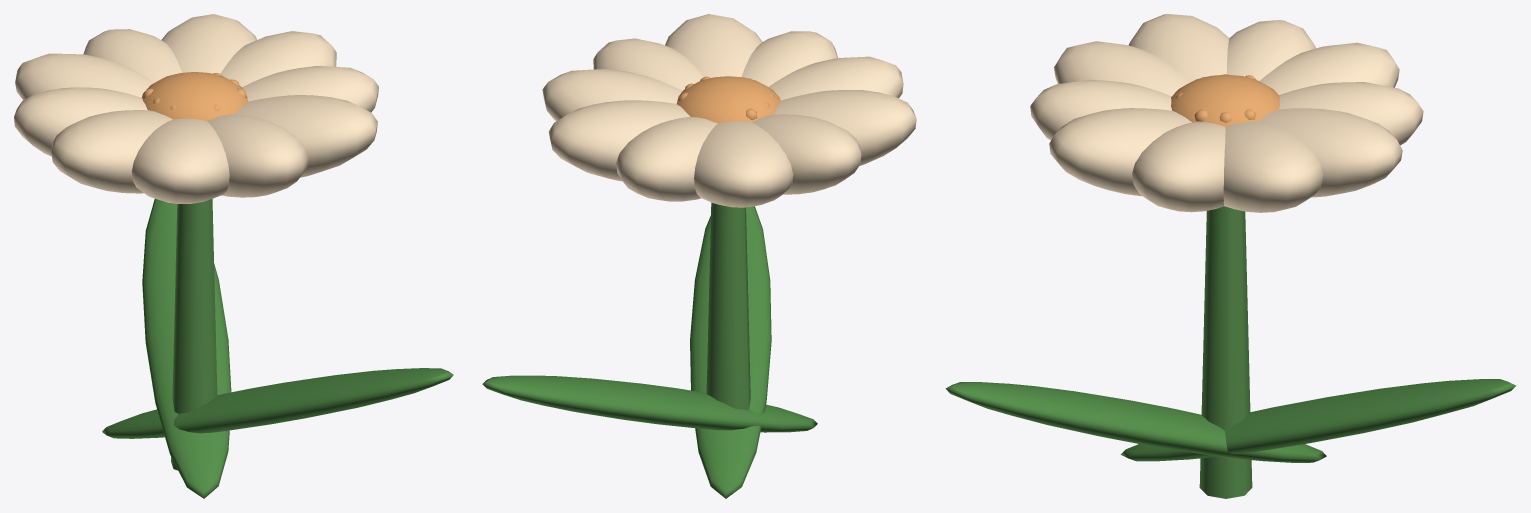
The model's file is daisy-flower.glb.
3 renders of one model, left to right at view 1: azimuth 30°, elevation 25°; view 2: azimuth 150°, elevation 25°; view 3: azimuth 270°, elevation 25°, orthographic. The views are drawn at different scales.
Visible parts, largest first — view 1: leaf1, leaf0, stem, petal9, petal8, petal1, petal0, petal7, petal6, petal3, center, petal2 (+2 smaller); view 2: leaf0, leaf1, stem, petal6, petal4, petal5, petal8, petal7, petal3, petal1, petal9, center (+2 smaller); view 3: stem, leaf1, leaf0, petal3, petal1, petal4, petal2, petal6, petal5, petal9, petal8, petal0 (+2 smaller).
Part boxes in pixels (x1,y1,x2,y2): leaf1: (142,198,231,498); leaf0: (102,368,453,438); stem: (171,199,217,470); petal9: (131,118,229,203); petal8: (51,110,172,193); petal1: (235,95,377,177); petal0: (207,114,308,197); petal7: (14,87,147,156); petal6: (15,53,154,99); petal3: (220,31,336,86); center: (142,72,247,120); petal2: (242,66,378,112); leaf0: (690,206,771,498); leaf1: (482,375,817,432); stem: (706,202,750,410); petal6: (694,121,793,207); petal4: (548,100,689,181); petal5: (616,116,717,201); petal8: (774,90,916,165); petal7: (752,114,861,194); petal3: (542,69,682,121); petal1: (665,14,762,77); petal9: (768,56,903,100); center: (676,76,780,123); stem: (1199,206,1252,498); leaf1: (1120,379,1515,461); leaf0: (945,382,1326,462); petal3: (1223,122,1323,212); petal1: (1049,108,1191,196); petal4: (1258,108,1402,197); petal2: (1132,122,1225,212); petal6: (1259,42,1399,94); petal5: (1279,82,1423,145); petal9: (1054,41,1190,96); petal8: (1128,14,1229,81); petal0: (1030,79,1171,140).
Bounding box in the file's own units: 0.2672 × 0.3055 × 0.3908.
